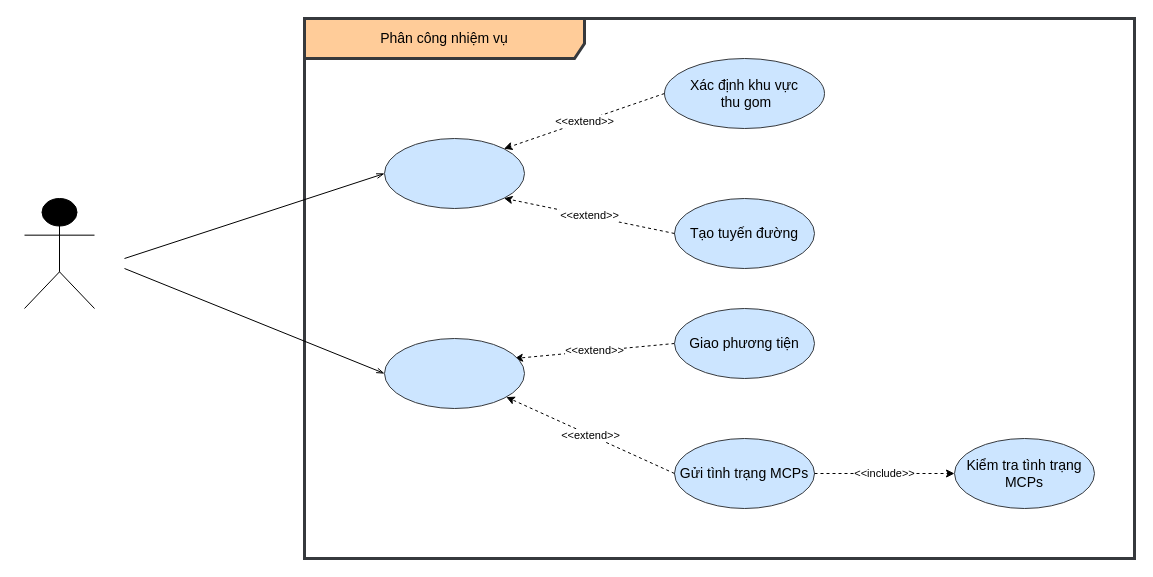
The diagram is 1153 pixels wide and 577 high, and some of its shapes have lost their labels. The shapes that lost their labels are listed below. From the top down, each one's centre as x and y in pixels, then its label:
[454,173]: Quản lý Janitors và Collectors
[59,253]: Admin ( Back Officer )
[454,373]: Quản lý phương tiện và MCPs
